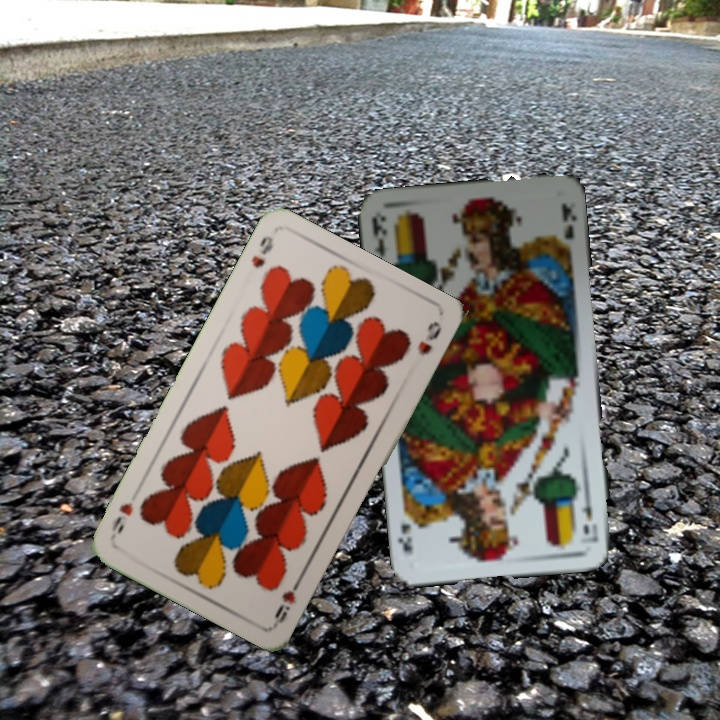EK: (579, 485, 601, 545), (368, 214, 389, 260)
H9: (270, 572, 305, 627), (247, 231, 276, 271)
